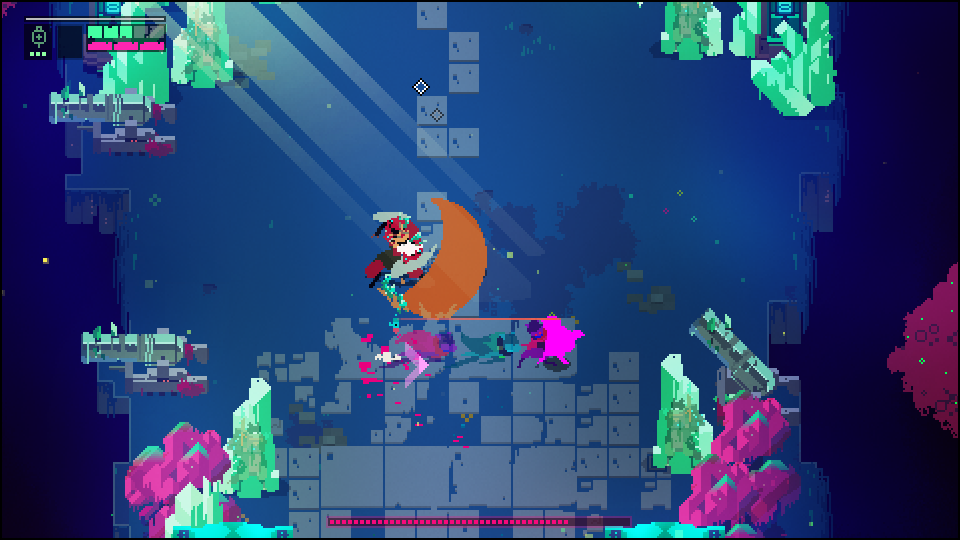hanged_man: (368, 199, 475, 316)
player: (536, 318, 582, 371)
